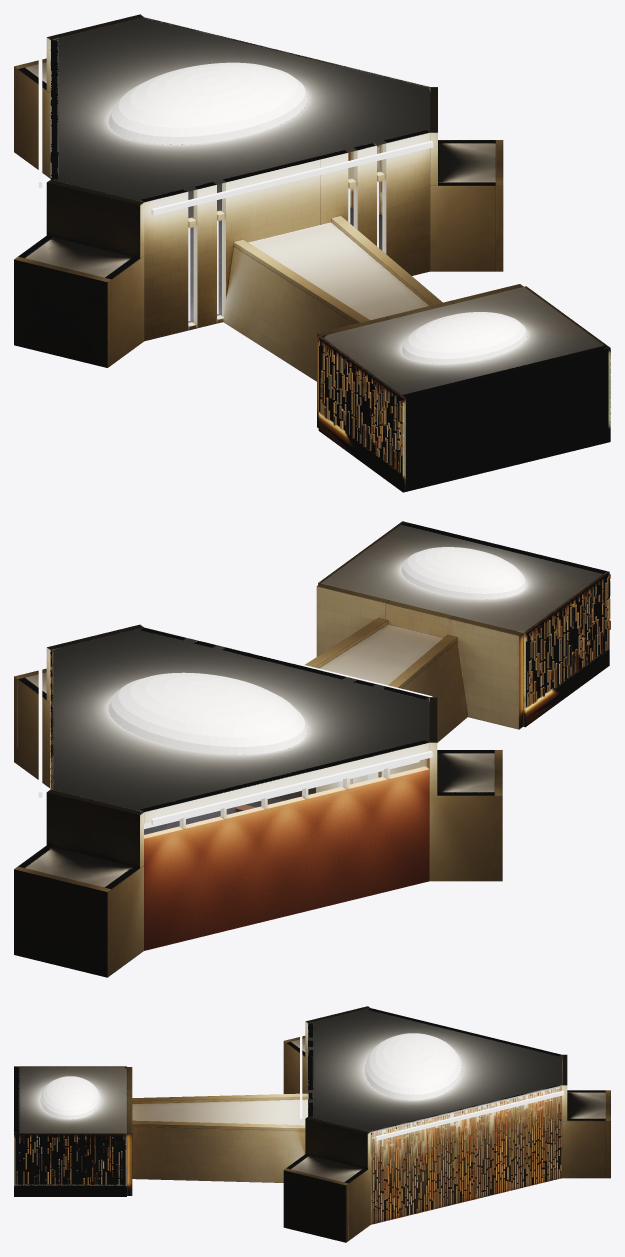
Rendered from museum.glb.
3 views of the same model, one above another, from view 1: azimuth 30°, elevation 25°; view 2: azimuth 150°, elevation 25°; view 3: azimuth 270°, elevation 25° (orthographic). The views are drawn at different scales.
Visible parts, largest first — view 1: SOLID_ceiling, SOLID_hall, SOLID_lobby, SOLID_alcove1, SOLID_corridor, SOLID_alcove2, SOLID_lobbyscreen, SOLID_alcove0, WALK_floors, SOLID_screen; view 2: SOLID_ceiling, SOLID_hall, SOLID_alcove0, SOLID_lobby, SOLID_alcove1, SOLID_lobbyscreen, SOLID_corridor, SOLID_alcove2, WALK_floors; view 3: SOLID_ceiling, SOLID_screen, SOLID_corridor, SOLID_alcove2, SOLID_lobbyscreen, SOLID_alcove0, SOLID_hall, SOLID_alcove1, SOLID_lobby.
Boxes of the visible parts, <box> form: SOLID_ceiling: <box>50,17,605,397</box>; SOLID_hall: <box>38,18,433,341</box>; SOLID_lobby: <box>317,284,608,491</box>; SOLID_alcove1: <box>14,179,144,367</box>; SOLID_corridor: <box>223,216,442,381</box>; SOLID_alcove2: <box>430,87,503,271</box>; SOLID_lobbyscreen: <box>318,286,610,492</box>; SOLID_alcove0: <box>14,14,143,178</box>; WALK_floors: <box>136,183,382,330</box>; SOLID_screen: <box>143,17,430,215</box>; SOLID_ceiling: <box>50,523,606,811</box>; SOLID_hall: <box>38,627,432,950</box>; SOLID_alcove0: <box>14,789,143,977</box>; SOLID_lobby: <box>316,522,605,729</box>; SOLID_alcove1: <box>429,697,502,881</box>; SOLID_lobbyscreen: <box>318,521,610,727</box>; SOLID_corridor: <box>305,618,468,784</box>; SOLID_alcove2: <box>14,624,143,787</box>; WALK_floors: <box>135,787,315,834</box>; SOLID_ceiling: <box>14,1008,561,1133</box>; SOLID_screen: <box>370,1084,561,1224</box>; SOLID_corridor: <box>132,1093,307,1182</box>; SOLID_alcove2: <box>283,1116,370,1242</box>; SOLID_lobbyscreen: <box>14,1066,126,1196</box>; SOLID_alcove0: <box>562,1054,610,1178</box>; SOLID_hall: <box>300,1008,563,1140</box>; SOLID_alcove1: <box>283,1006,369,1093</box>; SOLID_lobby: <box>14,1067,132,1195</box>.
Size of the model in its own units: 25.08 by 8.38 by 39.59.
11 materials, 11 textured.
